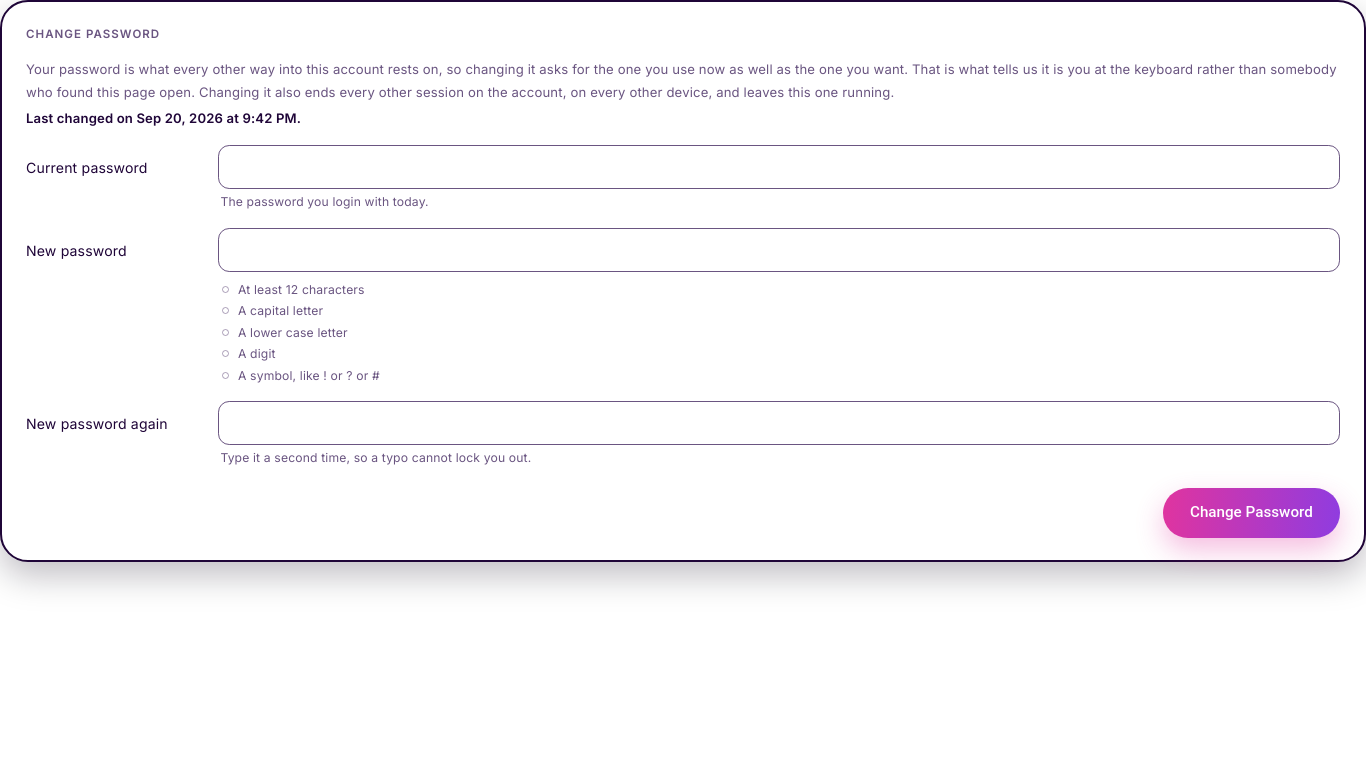
Test case: what it refuses to send › refuses a new password that breaks a rule
Type "letmein" into the password field labelled "Current password" at (779, 167), box left=218, top=145, right=1340, bottom=189
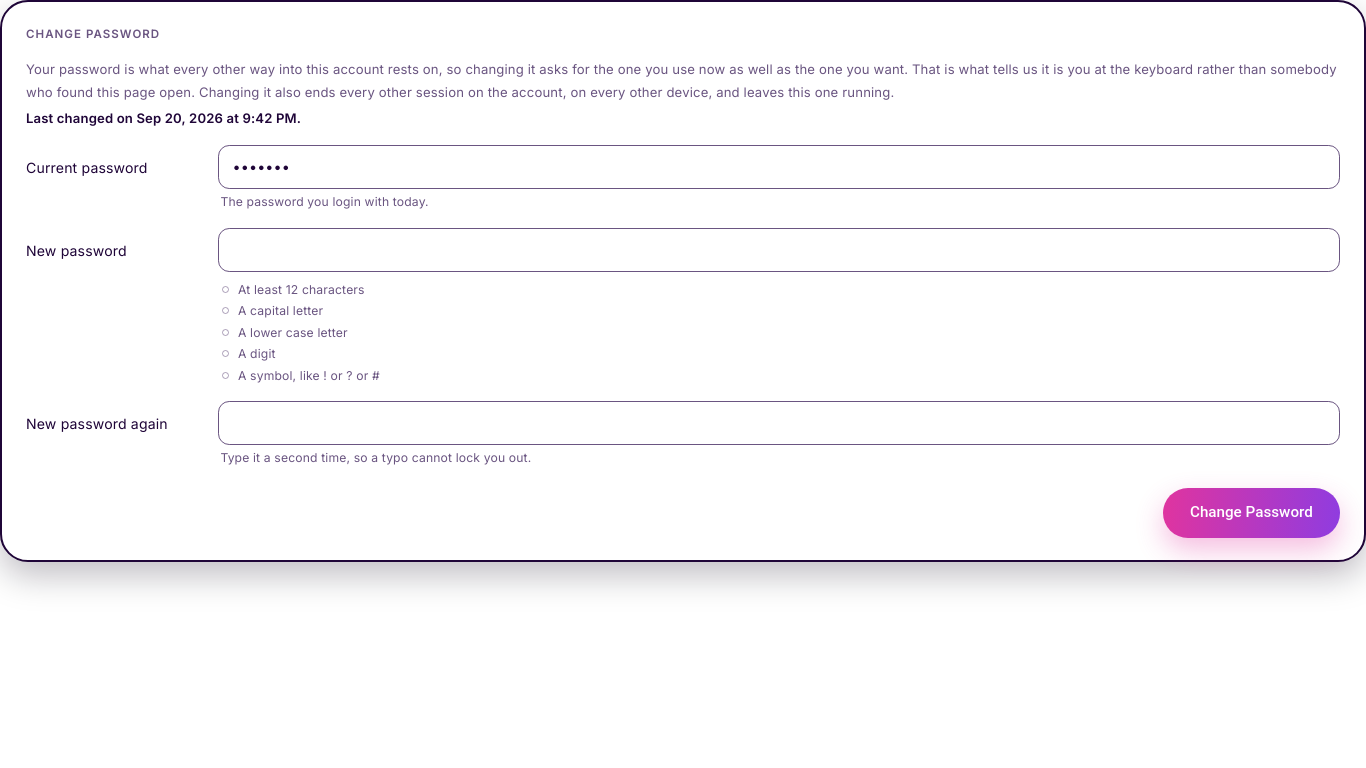
Type "short" into the password field labelled "New password" at (779, 250), box left=218, top=228, right=1340, bottom=272
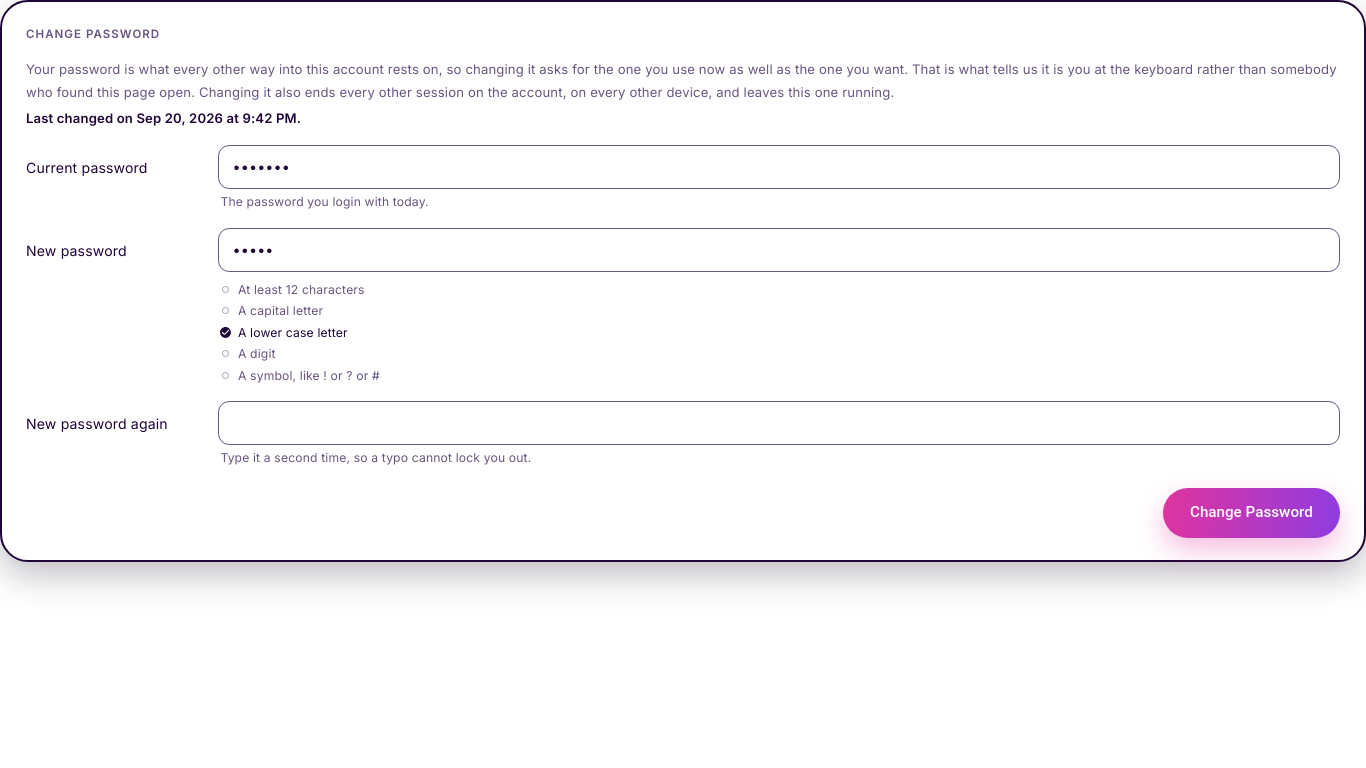
Type "short" into the password field labelled "New password again" at (779, 423), box left=218, top=401, right=1340, bottom=445
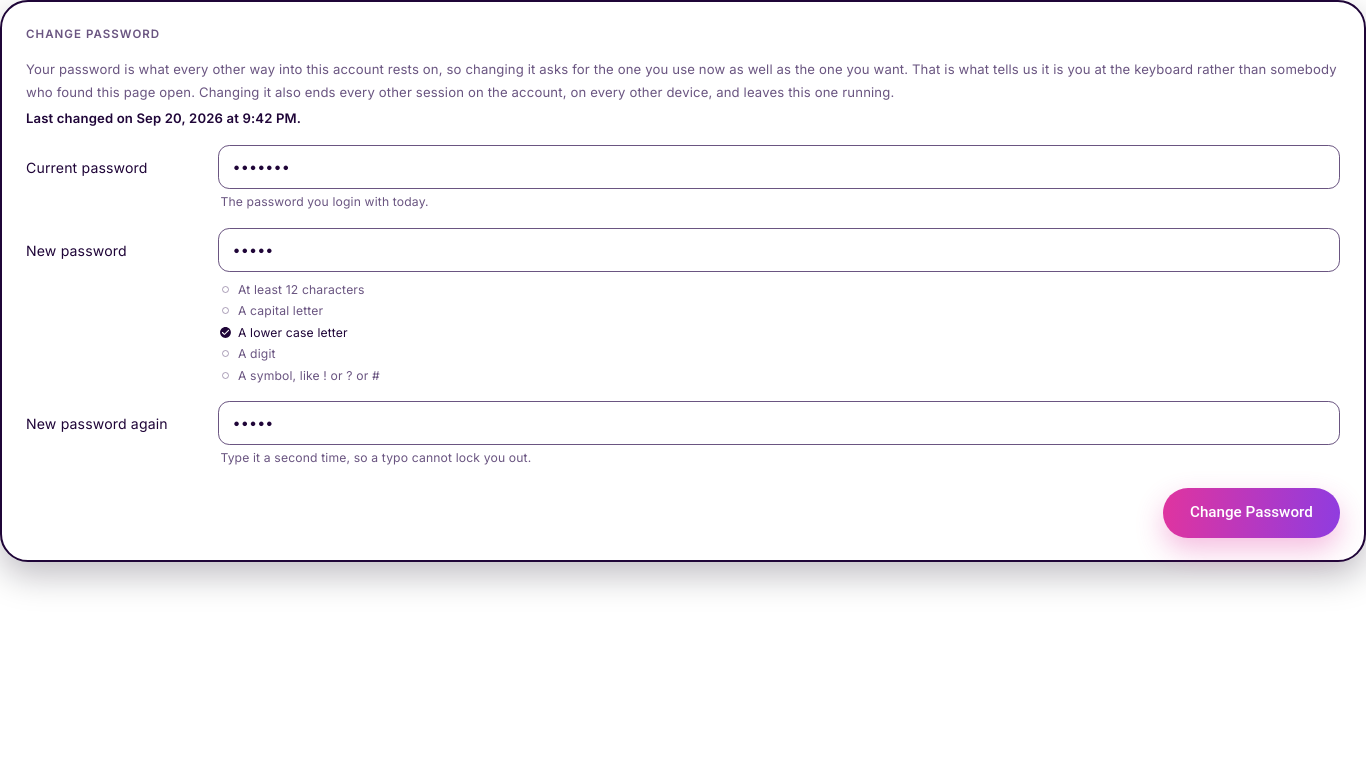
Click the button "Change Password" at (1251, 513), box left=1163, top=488, right=1340, bottom=538
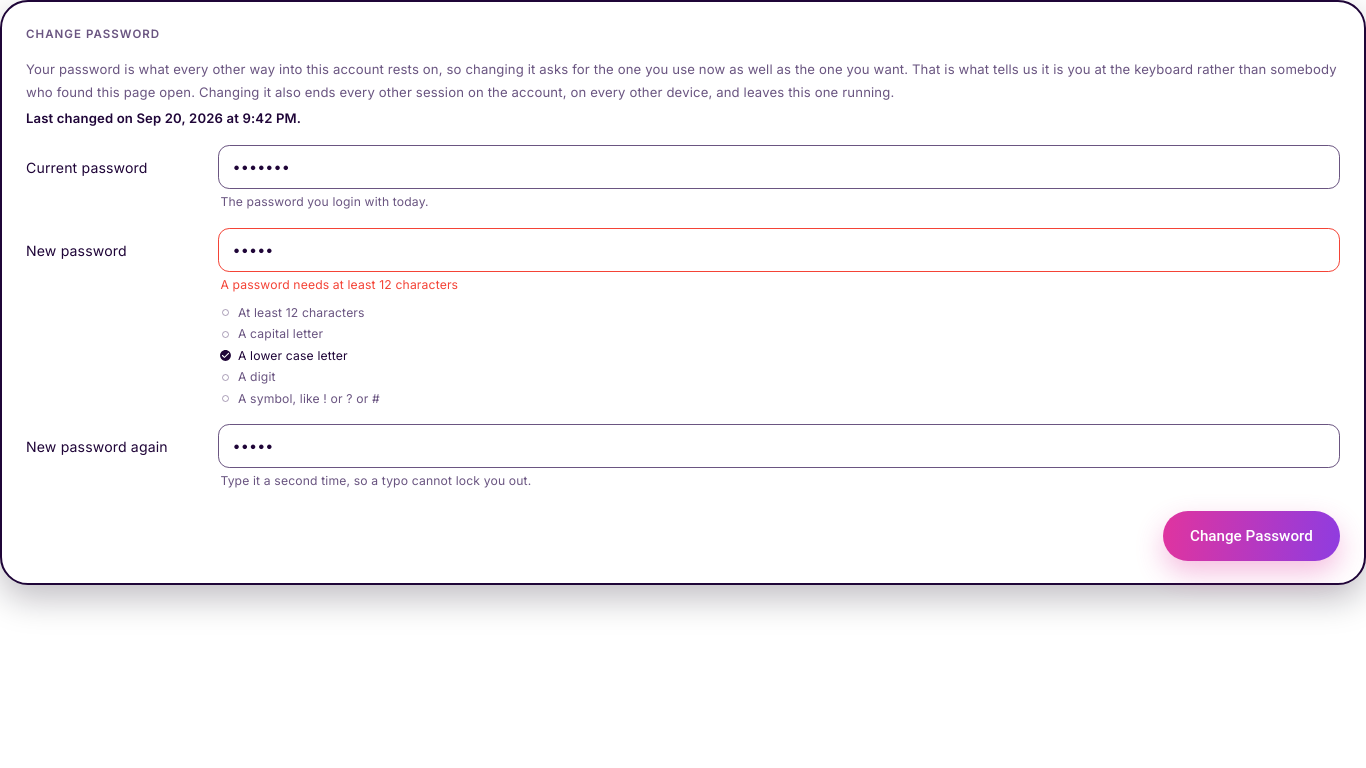
Now the text "A password needs at least 12 characters" is shown, box left=220, top=277, right=458, bottom=292
